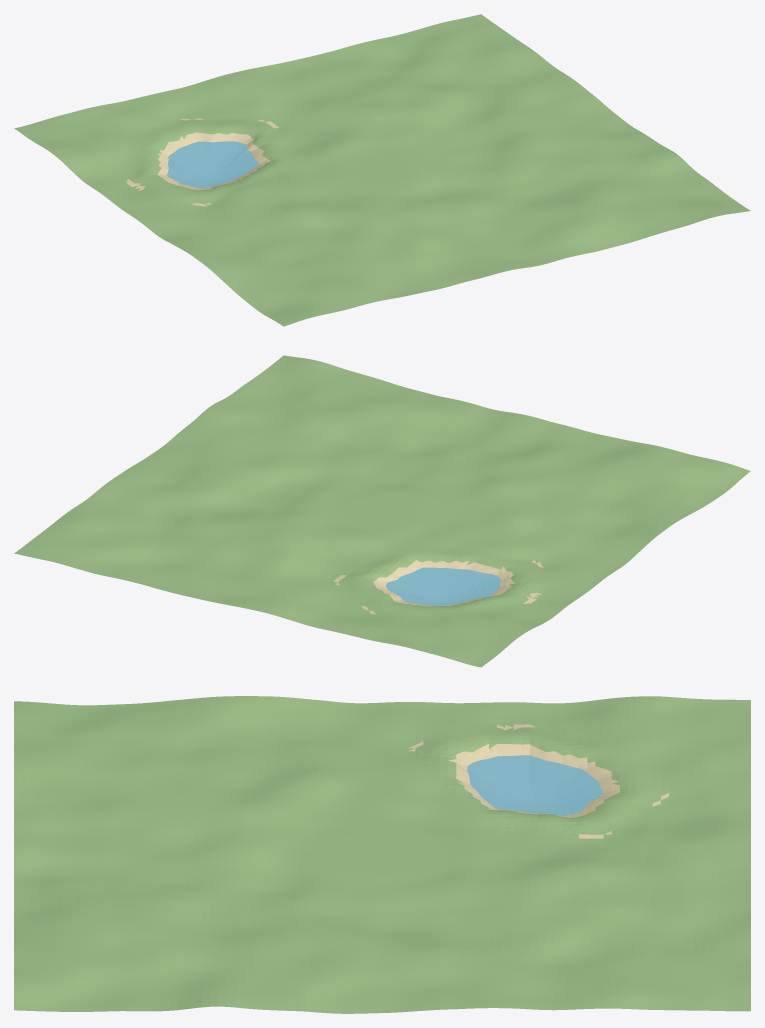
File: low-poly-terrain.glb
3 views of the same model, one above another, from view 1: azimuth 30°, elevation 25°; view 2: azimuth 150°, elevation 25°; view 3: azimuth 270°, elevation 25° (orthographic). The views are drawn at different scales.
Visible parts, largest first — view 1: terrain, water; view 2: terrain, water; view 3: terrain, water.
Part boxes in pixels (x1,y1,x2,y2): terrain: [14, 14, 750, 326]; water: [167, 141, 258, 188]; terrain: [14, 355, 750, 667]; water: [386, 567, 500, 605]; terrain: [14, 696, 750, 1013]; water: [466, 755, 602, 815].
Size of the model in its own units: 100 by 4.78 by 100.
